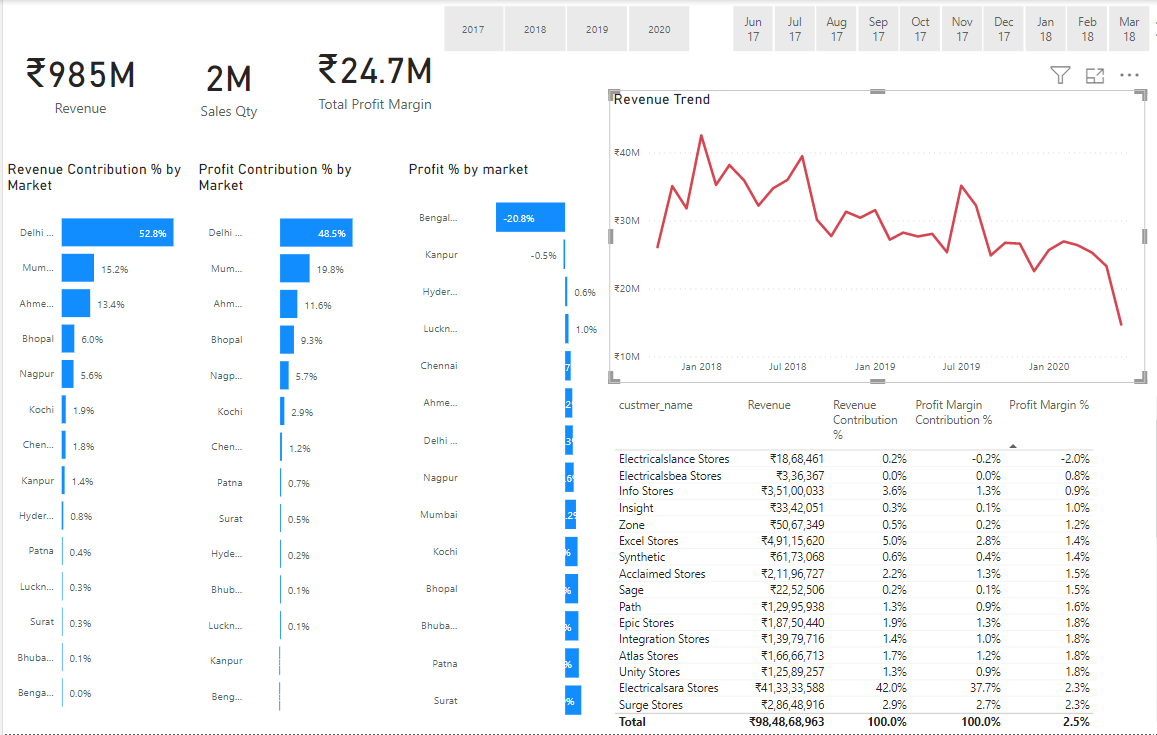

Layout of this report page (visuals, bound fields, positions):
{"tool":"powerbi","page":{"name":"Profit Analysis","canvas":[1350,850],"ordinal":1},"visuals":[{"type":"card","fields":{"Values":["BaseMeasures (2).Revenue"]},"box":[0,0,179.6,184.8],"z":0},{"type":"card","fields":{"Values":["BaseMeasures (2).Sales Qty"]},"box":[179.6,0,164.1,193],"z":1000},{"type":"barChart","title":"Profit % by market","fields":{"Y":["BaseMeasures (2).Profit Margin %"],"Category":["sales markets.markets_name"]},"box":[464.5,184.8,230.2,664.8],"z":2000},{"type":"barChart","title":"Profit Contribution % by Market","fields":{"Y":["BaseMeasures (2).Profit Margin Contribution %"],"Category":["sales markets.markets_name"]},"box":[221.9,185.8,208.5,659.6],"z":3000},{"type":"slicer","fields":{"Values":["sales date.year"]},"box":[483.2,0,335.5,66.5],"z":4000},{"type":"slicer","fields":{"Values":["sales date.cy_date"]},"box":[818.6,0,531.7,66.5],"z":5000},{"type":"tableEx","title":"Top 5 Customers","fields":{"Values":["sales customers.custmer_name","BaseMeasures (2).Revenue","BaseMeasures (2).Revenue Contribution %","BaseMeasures (2).Profit Margin Contribution %","BaseMeasures (2).Profit Margin %"]},"box":[701.9,454.2,648.3,395.4],"z":6000},{"type":"lineChart","title":"Revenue Trend","fields":{"Y":["BaseMeasures (2).Revenue"],"Category":["sales date.cy_date"]},"box":[701.9,104.3,621.4,338.6],"z":7000},{"type":"card","fields":{"Values":["BaseMeasures (2).Total Profit Margin"]},"box":[349.9,0,161,176.5],"z":8000},{"type":"barChart","title":"Revenue Contribution % by Market","fields":{"Y":["BaseMeasures (2).Revenue Contribution %"],"Category":["sales markets.markets_name"]},"box":[0,185.8,219.9,654.5],"z":9000}]}

Visuals, with their boxes in screenshot pixels (x1, y1, x2, y2), scaled from the page's 1350x850 canvas onto the 1157x735 screenshot:
card - BaseMeasures (2).Revenue: 0:0:154:160
card - BaseMeasures (2).Sales Qty: 154:0:295:167
"Profit % by market" barChart: 398:160:595:734
"Profit Contribution % by Market" barChart: 190:161:369:731
slicer - sales date.year: 414:0:702:58
slicer - sales date.cy_date: 702:0:1156:58
"Top 5 Customers" tableEx: 602:393:1156:734
"Revenue Trend" lineChart: 602:90:1134:383
card - BaseMeasures (2).Total Profit Margin: 300:0:438:153
"Revenue Contribution % by Market" barChart: 0:161:188:727
